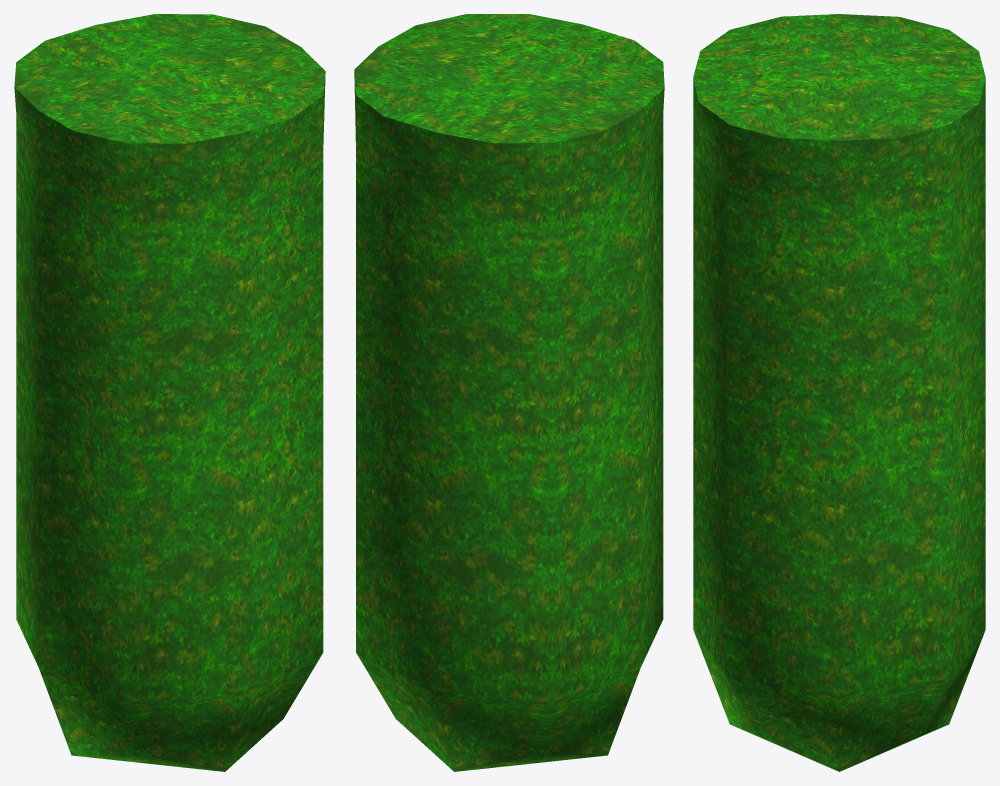
The model's file is INST_HTOWN_CLIFFPIECEC.fbx.
3 renders of one model, left to right at view 1: azimuth 30°, elevation 25°; view 2: azimuth 150°, elevation 25°; view 3: azimuth 270°, elevation 25°, orthographic.
Visible parts, largest first — view 1: INST_HTOWN_CLIFFPIECEC; view 2: INST_HTOWN_CLIFFPIECEC; view 3: INST_HTOWN_CLIFFPIECEC.
Boxes of the visible parts, left/top/right/bottom form: INST_HTOWN_CLIFFPIECEC: left=14, top=14, right=325, bottom=771; INST_HTOWN_CLIFFPIECEC: left=354, top=14, right=664, bottom=771; INST_HTOWN_CLIFFPIECEC: left=693, top=14, right=985, bottom=771.
Bounding box in the file's own units: 30058 × 74818 × 29296.
Materials: 1 (1 with a texture image).
